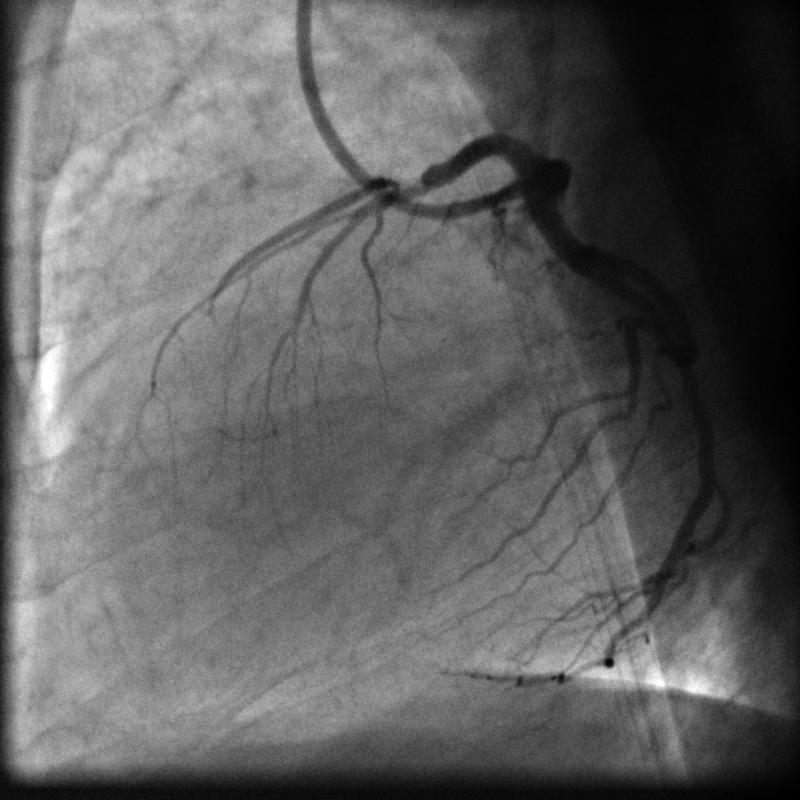Stenosis: (381, 172, 444, 203)
